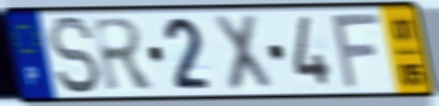2: (164, 14, 219, 93)
4: (291, 13, 334, 91)
F: (329, 11, 384, 93)
R: (89, 15, 158, 94)
S: (45, 14, 104, 97)
X: (211, 11, 276, 94)
